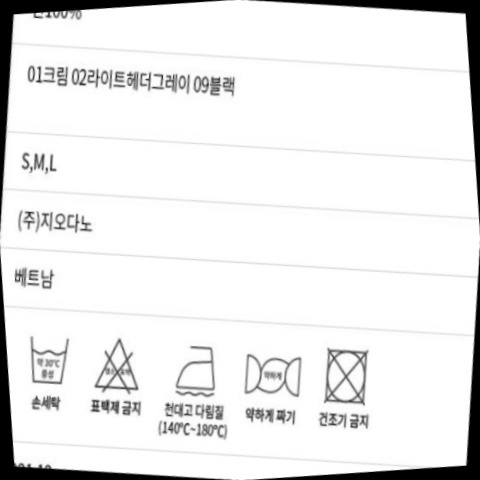30C: (17, 323, 83, 393)
DN_tumble_dry: (310, 335, 384, 415)
iron: (233, 340, 315, 406), (162, 330, 232, 405)
non_chlorine_bleach: (84, 325, 157, 403)
